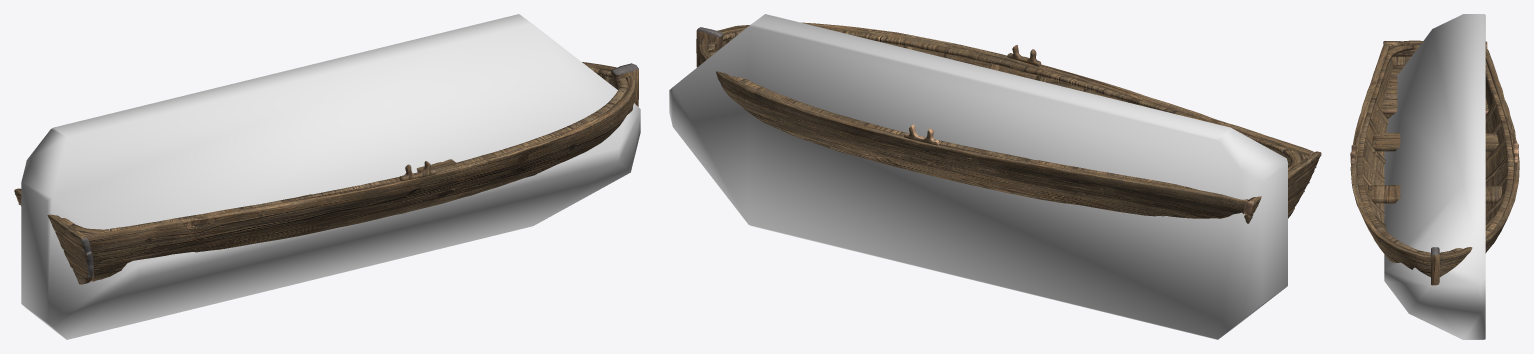
File: SM_Boat_Assembled_.fbx
3 renders of one model, left to right at view 1: azimuth 30°, elevation 25°; view 2: azimuth 150°, elevation 25°; view 3: azimuth 270°, elevation 25°, orthographic. The views are drawn at different scales.
Visible parts, largest first — view 1: SM_Boat_Assembled__ConvexHulls, SM_Boat_Assembled_; view 2: SM_Boat_Assembled__ConvexHulls, SM_Boat_Assembled_; view 3: SM_Boat_Assembled__ConvexHulls, SM_Boat_Assembled_.
Part boxes in pixels (left/top/right/bottom): SM_Boat_Assembled__ConvexHulls: left=21, top=14, right=640, bottom=339; SM_Boat_Assembled_: left=14, top=62, right=638, bottom=284; SM_Boat_Assembled__ConvexHulls: left=669, top=14, right=1287, bottom=339; SM_Boat_Assembled_: left=696, top=22, right=1321, bottom=223; SM_Boat_Assembled__ConvexHulls: left=1384, top=14, right=1485, bottom=339; SM_Boat_Assembled_: left=1350, top=40, right=1519, bottom=285.
Bounding box in the file's own units: 5.87 × 1.92 × 1.92.
